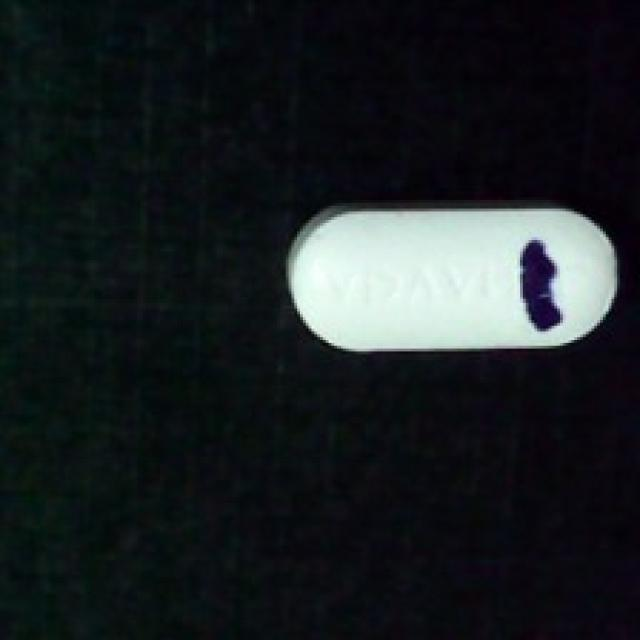defected: (277, 197, 626, 354)
